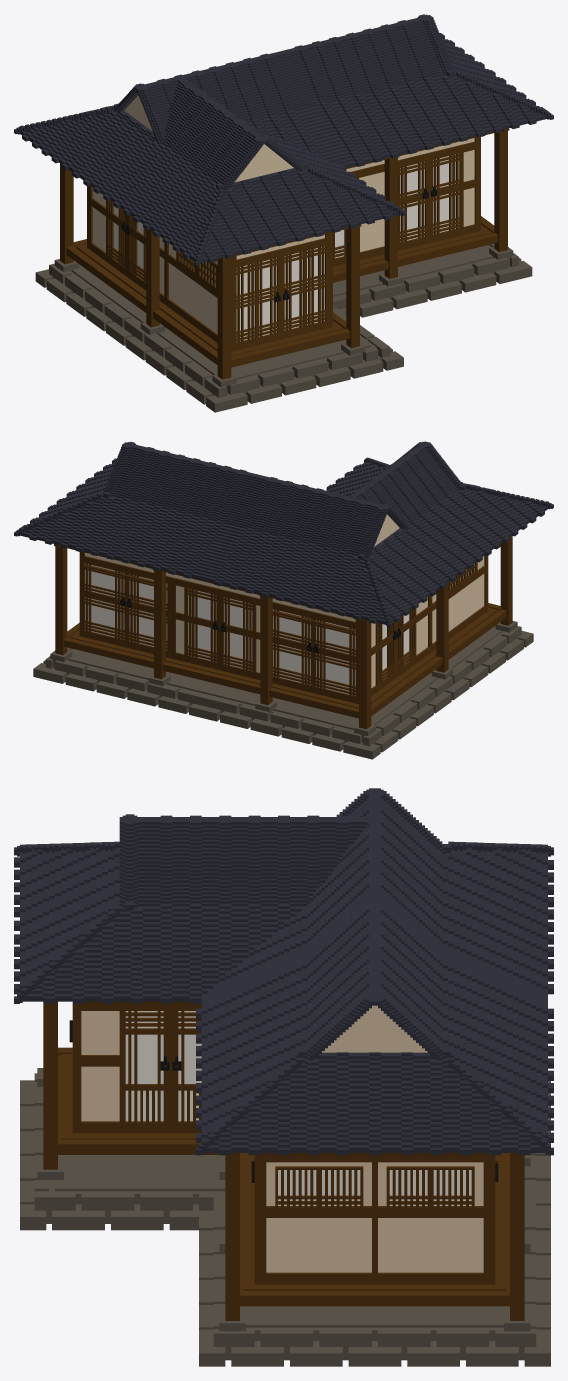
Rendered from Korean_house_03.FBX.
3 renders of one model, top to bottom at view 1: azimuth 30°, elevation 25°; view 2: azimuth 150°, elevation 25°; view 3: azimuth 270°, elevation 25°, orthographic. The views are drawn at different scales.
Visible parts, largest first — view 1: Voxel_Korean_traditional village-18; view 2: Voxel_Korean_traditional village-18; view 3: Voxel_Korean_traditional village-18.
Part boxes in pixels (x1,y1,x2,y2): Voxel_Korean_traditional village-18: [14, 14, 553, 412]; Voxel_Korean_traditional village-18: [14, 441, 553, 759]; Voxel_Korean_traditional village-18: [14, 788, 553, 1366].
Size of the model in its own units: 244 by 126 by 184.
3 materials, 3 textured.
